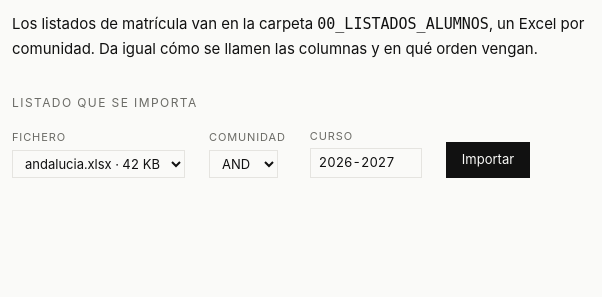
it: Alumnos › importa el listado elegido y resume lo que ha pasado
Click the button "Importar" at (488, 160), box [446, 142, 530, 178]
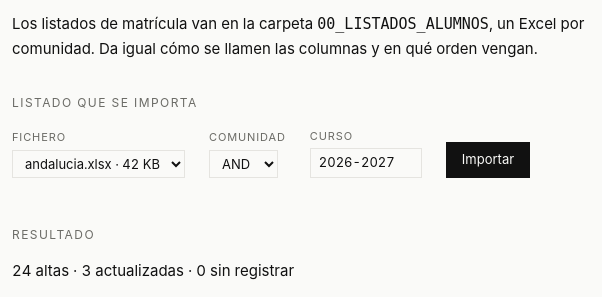
Expected: the text "24 altas · 3 actualizadas · 0 sin registrar" is shown, [12, 260, 294, 280]
